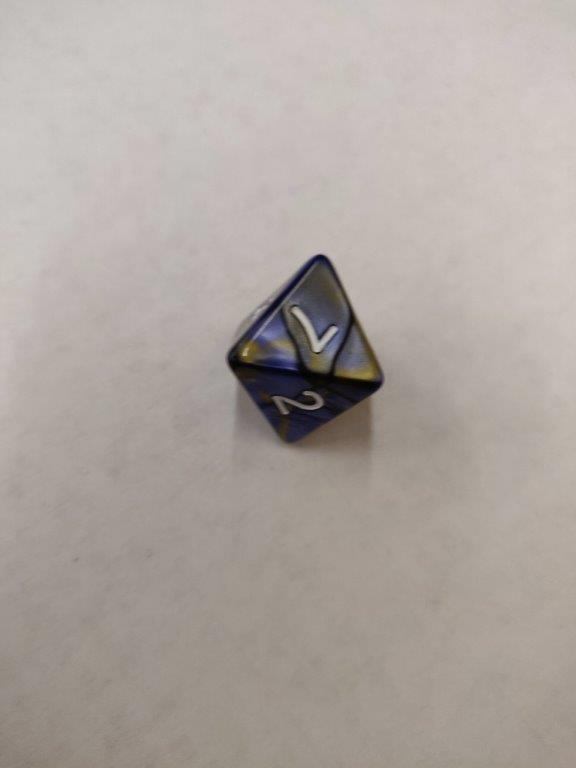d8-7: (224, 251, 384, 451)
